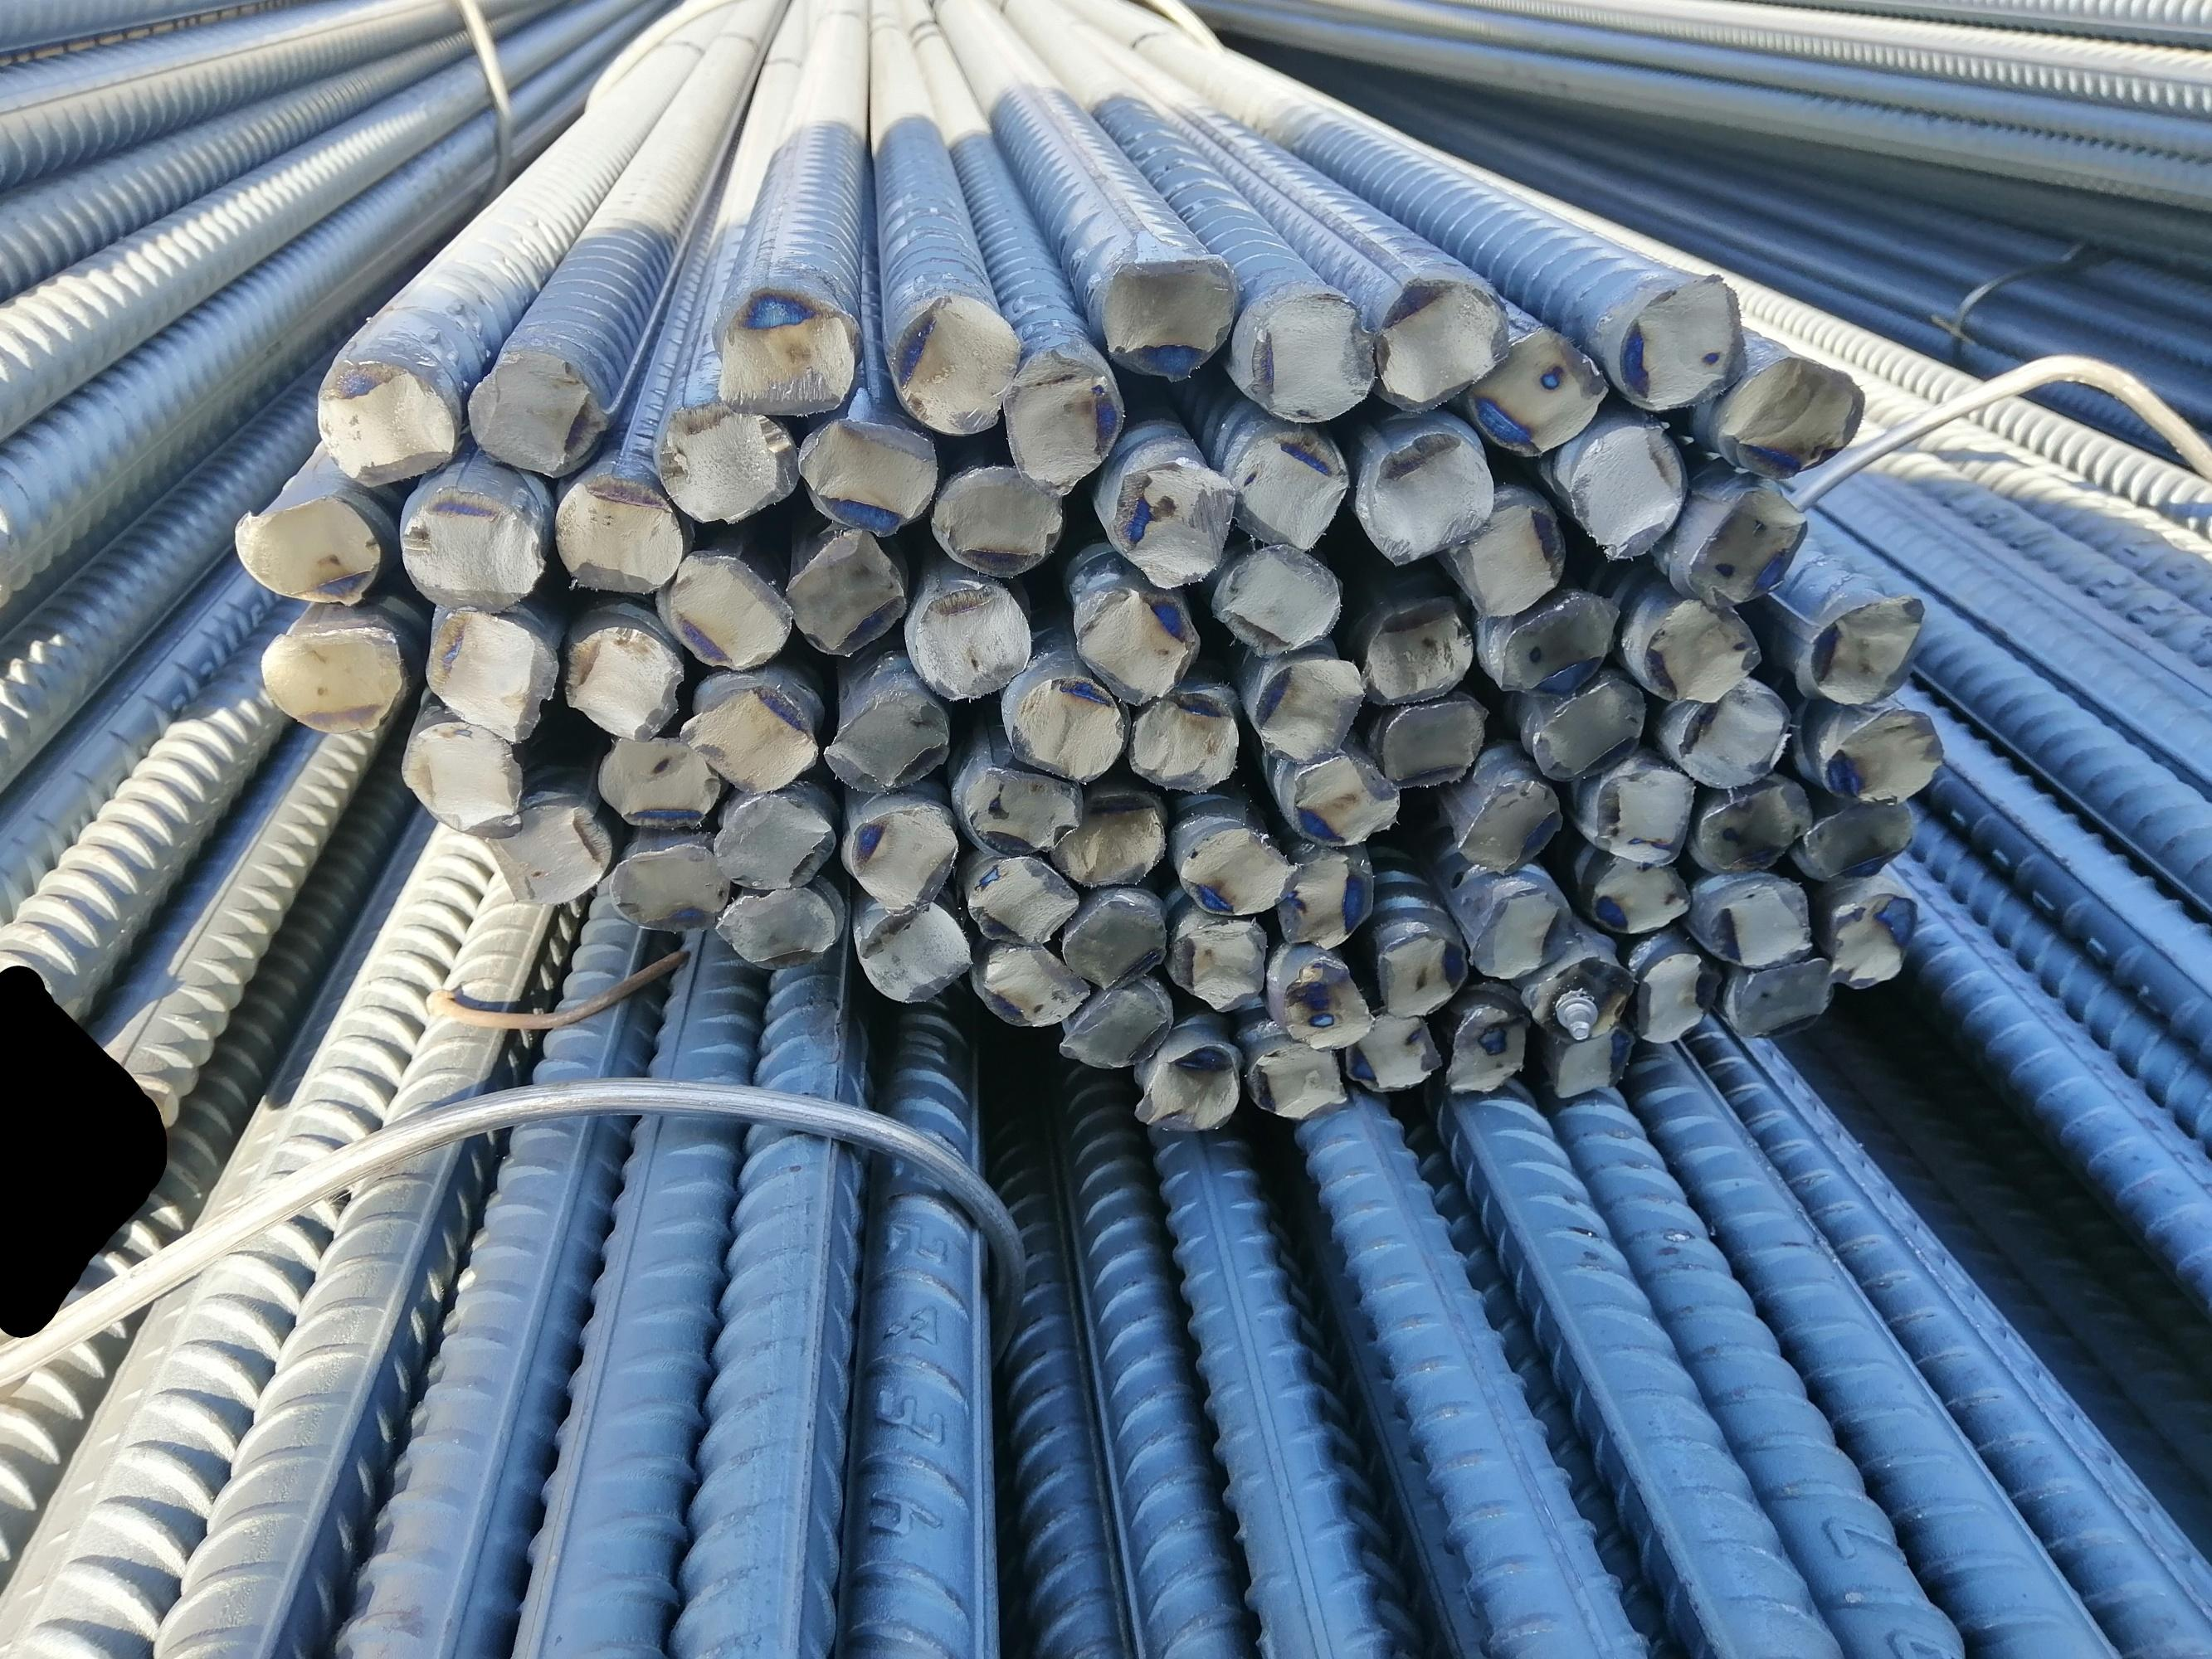bar: (795, 403, 943, 544), (1368, 270, 1510, 413), (314, 357, 465, 490), (392, 483, 547, 612), (420, 599, 560, 741), (997, 345, 1123, 502), (1093, 251, 1239, 385), (1720, 350, 1869, 479), (1365, 427, 1497, 570), (464, 347, 607, 477), (891, 293, 1020, 437), (249, 619, 406, 737), (716, 288, 858, 416), (1614, 272, 1745, 410), (779, 521, 910, 657), (1105, 453, 1236, 589), (1248, 284, 1379, 420), (654, 399, 797, 523), (659, 547, 793, 674), (1565, 425, 1687, 565), (1475, 328, 1605, 457), (676, 676, 818, 795), (225, 497, 378, 605), (903, 580, 1035, 704), (1215, 537, 1346, 660), (556, 471, 682, 598), (1686, 477, 1809, 606), (1804, 586, 1931, 709), (1231, 422, 1351, 551), (931, 460, 1063, 577), (479, 798, 612, 910), (1520, 674, 1654, 784), (1243, 652, 1370, 765), (1077, 582, 1192, 706), (561, 617, 675, 742), (593, 727, 722, 836), (823, 685, 947, 798), (1454, 497, 1567, 619), (854, 894, 974, 1007), (401, 723, 523, 835), (1642, 598, 1762, 708), (603, 836, 736, 936), (1822, 699, 1949, 802), (851, 800, 964, 915), (1009, 673, 1124, 786), (711, 789, 833, 892), (1672, 683, 1794, 786), (1124, 687, 1239, 793), (1265, 845, 1375, 955), (1361, 592, 1469, 704), (957, 850, 1079, 948), (964, 756, 1081, 857), (969, 932, 1089, 1030), (1499, 591, 1614, 692), (1700, 781, 1816, 877), (1177, 823, 1293, 917), (1590, 756, 1691, 864), (1288, 751, 1400, 849), (1461, 774, 1565, 877), (1239, 1033, 1356, 1124), (1170, 903, 1269, 1009), (720, 880, 840, 967), (1469, 882, 1572, 983), (1063, 976, 1171, 1072), (1062, 896, 1166, 993), (1523, 955, 1635, 1044), (1135, 1040, 1239, 1134), (1703, 887, 1820, 971), (1278, 950, 1374, 1051), (1056, 798, 1163, 889), (1801, 789, 1907, 880), (1827, 884, 1916, 990), (1382, 706, 1490, 793), (1724, 957, 1837, 1039), (1442, 997, 1532, 1098), (1590, 850, 1691, 936), (1375, 927, 1468, 1019), (1344, 1009, 1443, 1093), (1632, 946, 1708, 1044), (1553, 1032, 1633, 1103)
